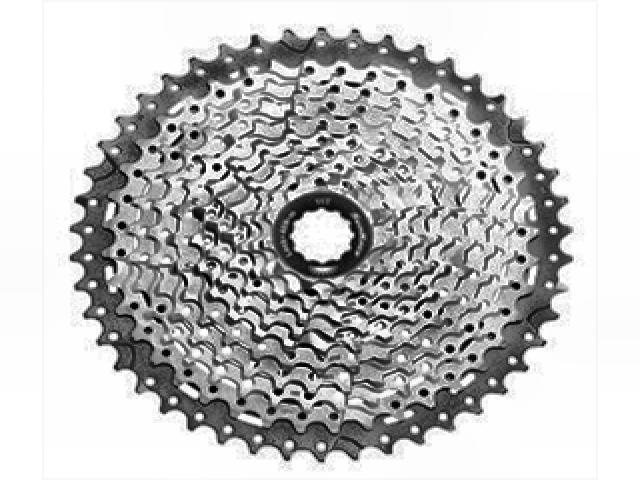cassette: (66, 20, 570, 466)
